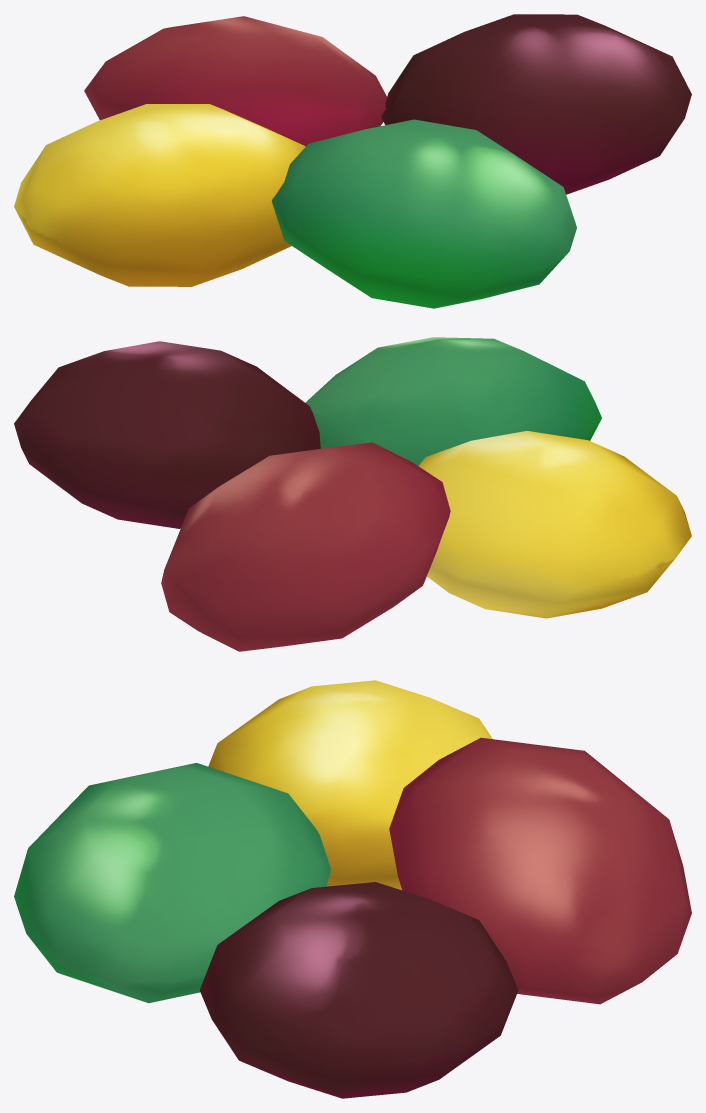
Rendered from Candies.glb.
The picture shows the model from 3 angles, top to bottom: view 1: azimuth 30°, elevation 25°; view 2: azimuth 150°, elevation 25°; view 3: azimuth 270°, elevation 25°; orthographic projection. The views are drawn at different scales.
Visible parts, largest first — view 1: Object_5.003; view 2: Object_5.003; view 3: Object_5.003.
Boxes of the visible parts, left/top/right/bottom form: Object_5.003: left=14, top=14, right=691, bottom=308; Object_5.003: left=14, top=337, right=691, bottom=651; Object_5.003: left=14, top=680, right=691, bottom=1098.
Size of the model in its own units: 0.1077 by 0.0268 by 0.0871.
1 material, 1 textured.
